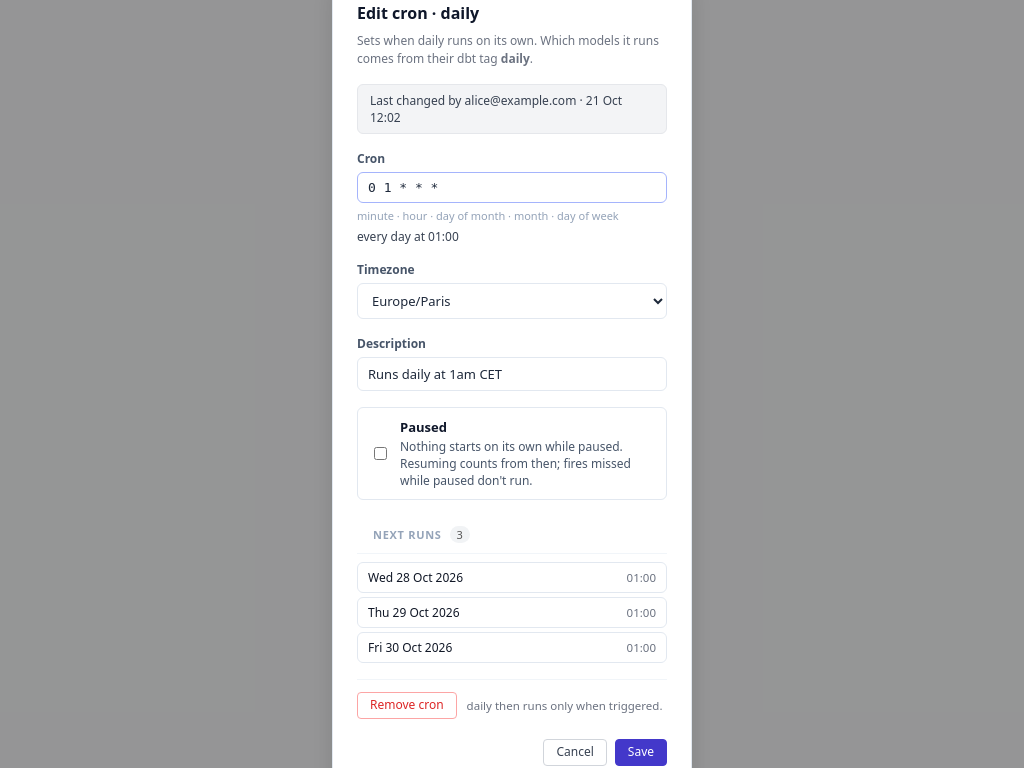
Test case: CronDialog › CronDialog a stale version names nobody when the cron was removed meanwhile
Click the button "Save".
click(641, 752)  # box [615,739,667,766]
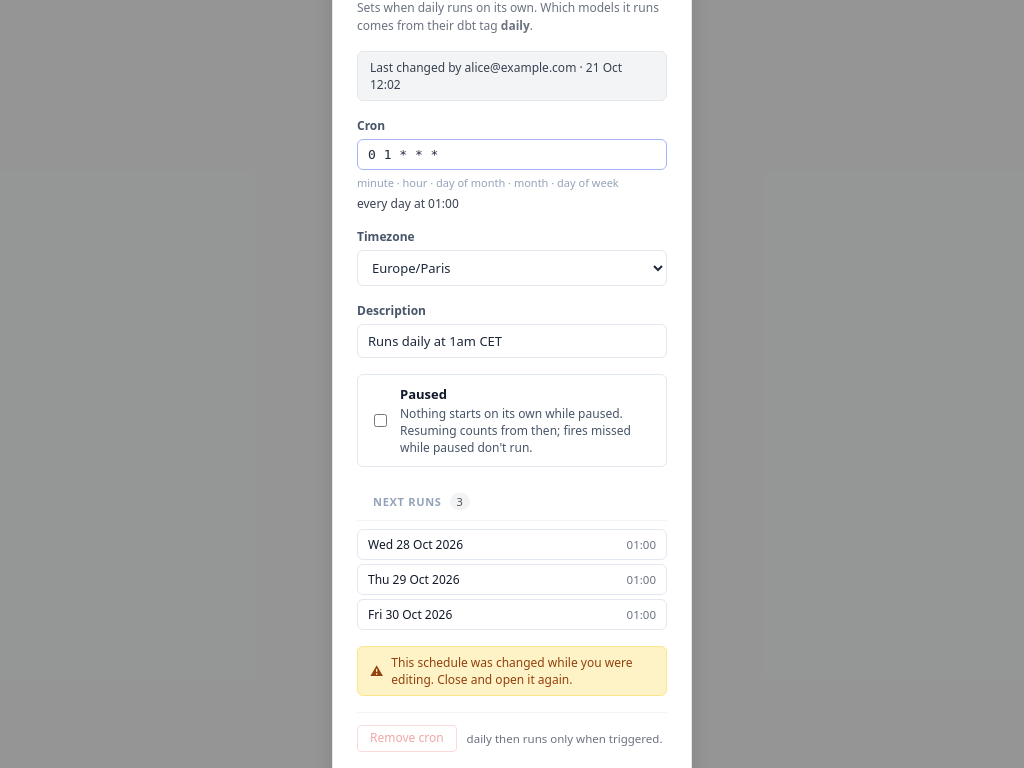
expect the text "This schedule was changed while you were editing. Close and open it again." is shown: met, box [391,654,654,688]
